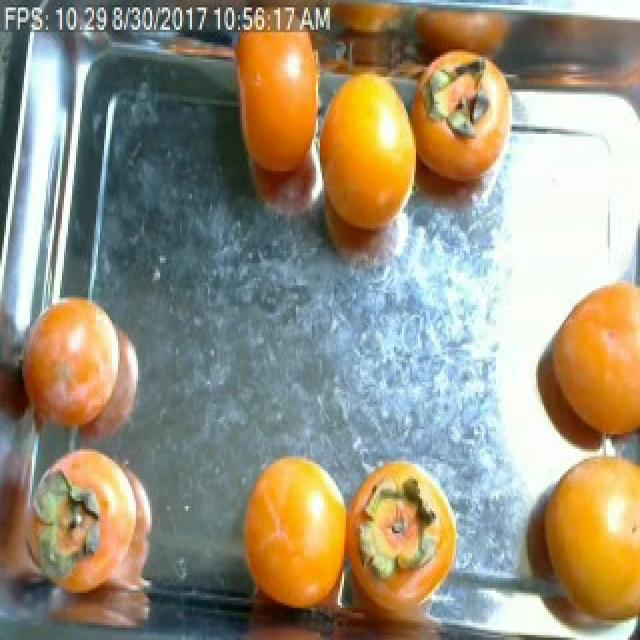Fruit: (224, 434, 364, 633), (8, 278, 156, 459), (522, 255, 640, 474)
